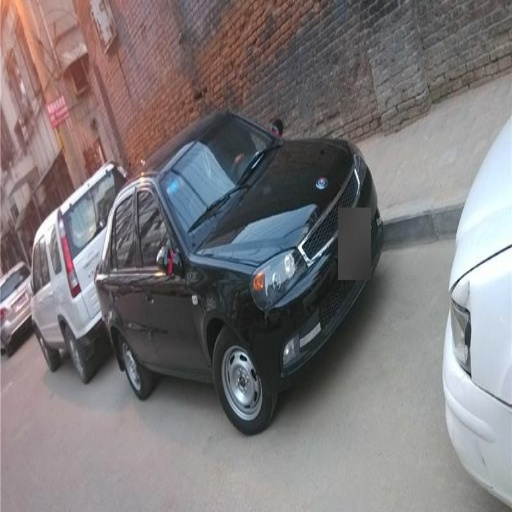front_bumper: (254, 323, 318, 390), (446, 358, 476, 472)
front_right_door: (141, 200, 195, 363)
